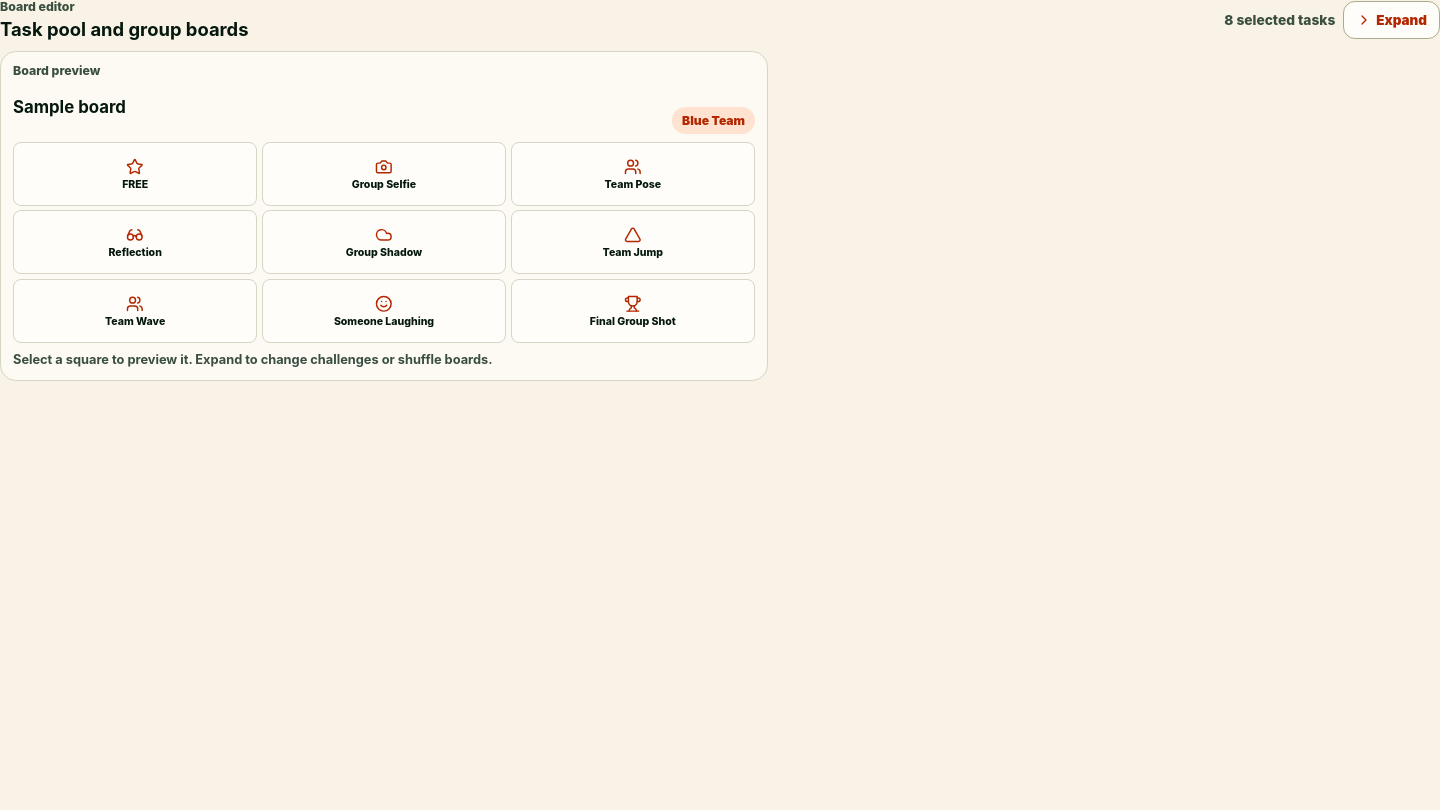
it: catalog board editor › shows a sample board before the editor is expanded
This screenshot has width=1440, height=810.
Expected: the heading "Sample board" is shown, [13, 97, 126, 117]
Expected: the text "Blue Team" is shown, [672, 108, 755, 134]
Click the button "Group Selfie".
click(384, 174)  # box [262, 142, 506, 206]
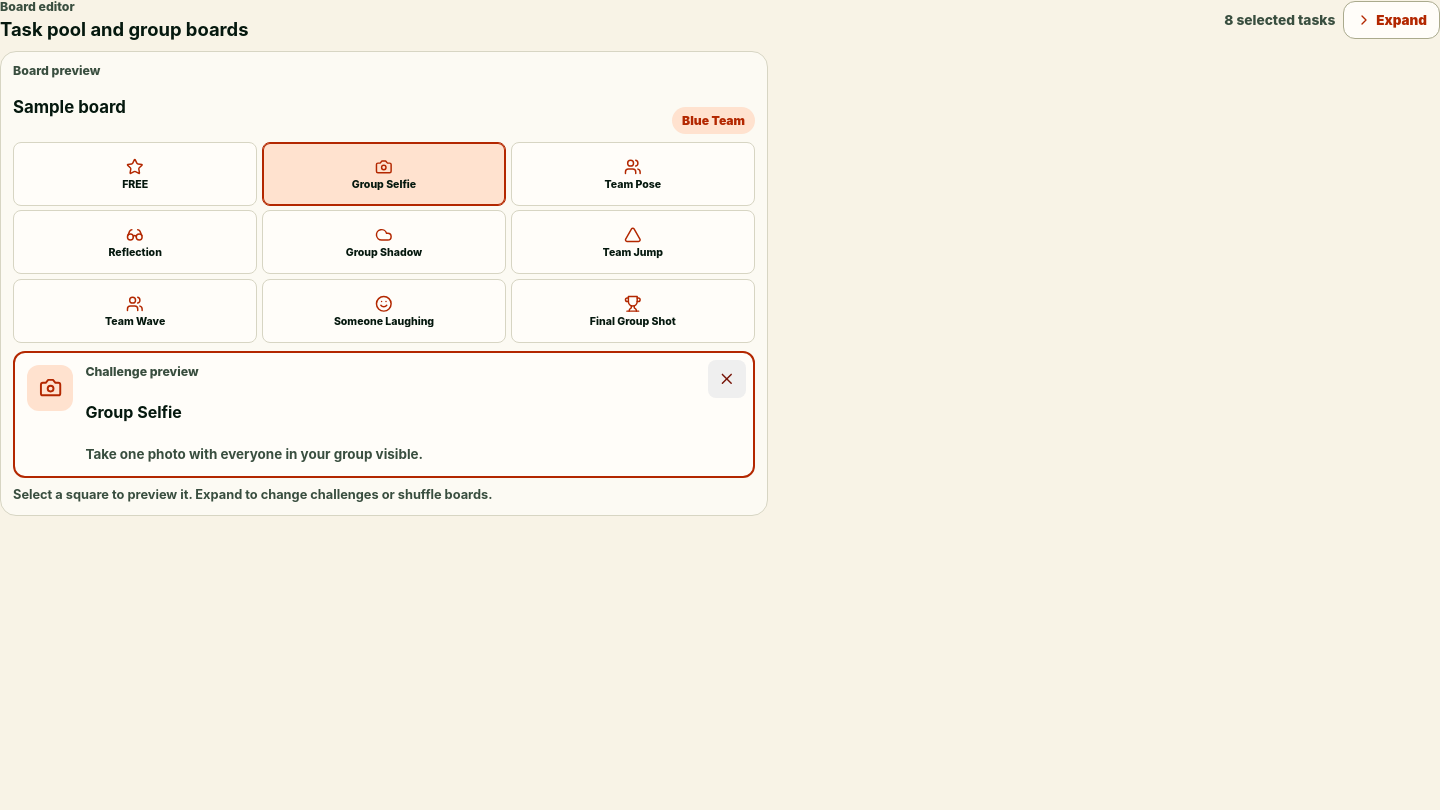
Result: the heading "Group Selfie" is shown at [85, 402, 182, 422]
Result: the text "Take one photo with everyone in your group visible." is shown at [85, 446, 423, 462]
Click the button named "Close challenge preview".
click(727, 379)  # box [708, 360, 746, 398]
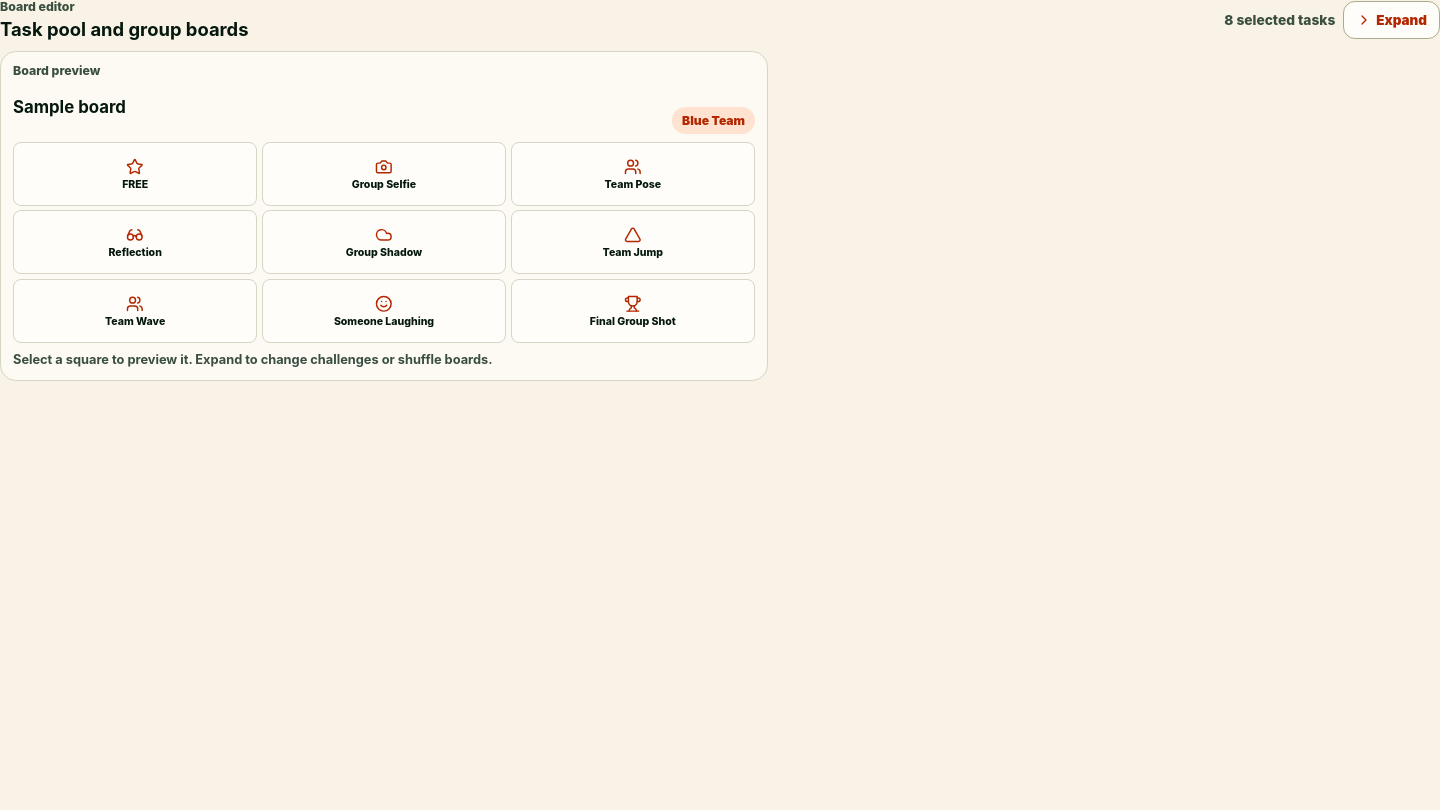
Click the button "Expand".
click(1392, 20)  # box [1343, 1, 1439, 39]
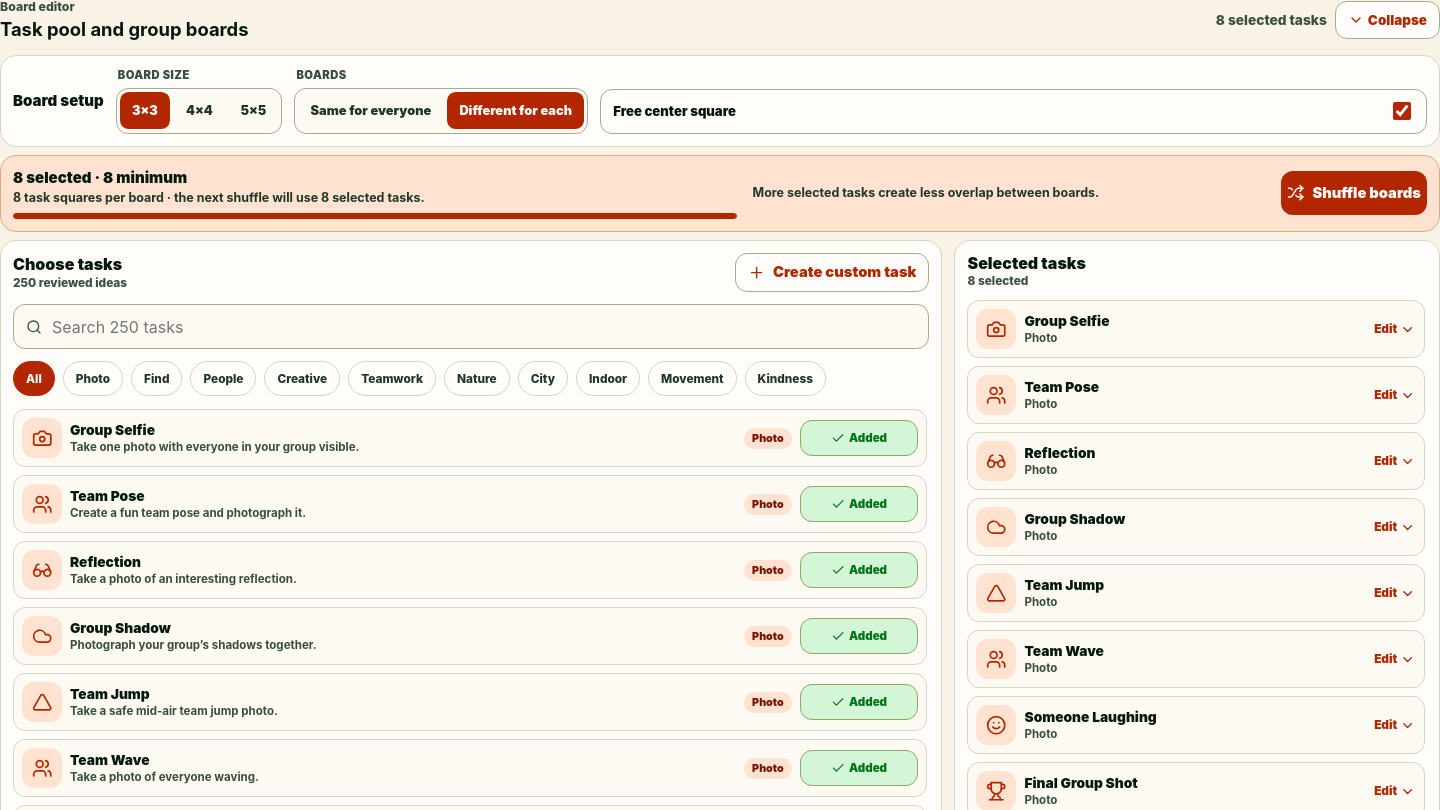
Result: the heading "Sample board" is gone
Result: the search field named "Search task catalog" is shown at [50, 316, 916, 338]
